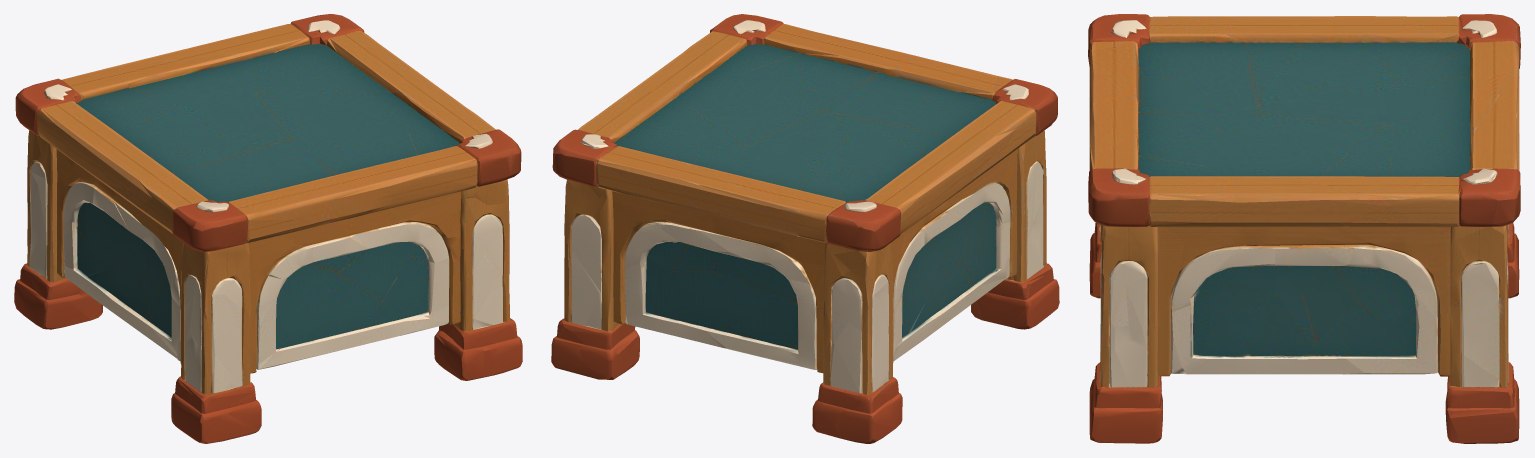
Rendered from cardTable.glb.
3 renders of one model, left to right at view 1: azimuth 30°, elevation 25°; view 2: azimuth 150°, elevation 25°; view 3: azimuth 270°, elevation 25°, orthographic. The views are drawn at different scales.
Visible parts, largest first — view 1: Mesh_0; view 2: Mesh_0; view 3: Mesh_0.
Part boxes in pixels (<box>): Mesh_0: <box>14,14,522,443</box>; Mesh_0: <box>551,14,1059,443</box>; Mesh_0: <box>1088,14,1520,443</box>.
Bounding box in the file's own units: 0.8019 × 0.5229 × 0.8.
Materials: 1 (1 with a texture image).
